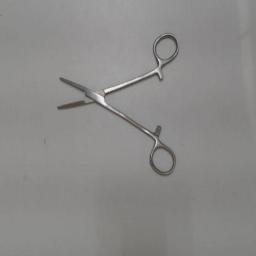Mayo Needle Holder: (53, 28, 181, 180)
